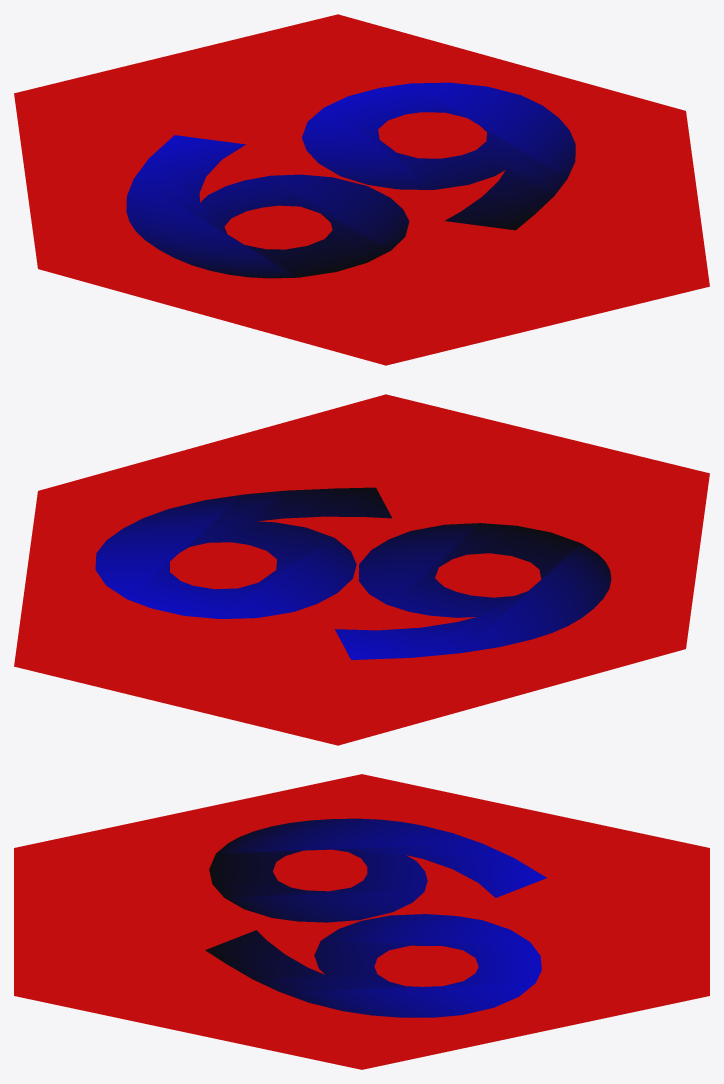
Rendered from SM_Number_69.fbx.
The picture shows the model from 3 angles, top to bottom: view 1: azimuth 30°, elevation 25°; view 2: azimuth 150°, elevation 25°; view 3: azimuth 270°, elevation 25°; orthographic projection. The views are drawn at different scales.
Parts seen in each view (by area): view 1: FBX_OUT; view 2: FBX_OUT; view 3: FBX_OUT.
Part boxes in pixels (x1=…): FBX_OUT: x1=14, y1=14, x2=709, y2=365; FBX_OUT: x1=14, y1=394, x2=709, y2=745; FBX_OUT: x1=14, y1=774, x2=709, y2=1069.
Size of the model in its own units: 50 by 0.2917 by 49.71.
